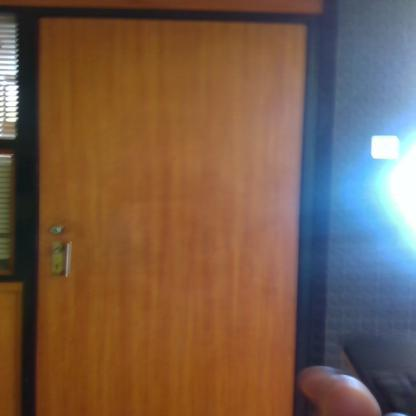door: (37, 16, 302, 415)
